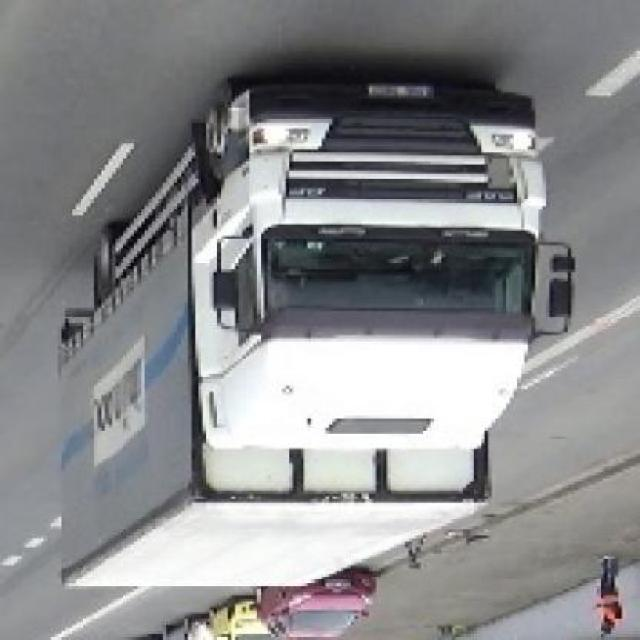truck: (52, 73, 576, 602)
